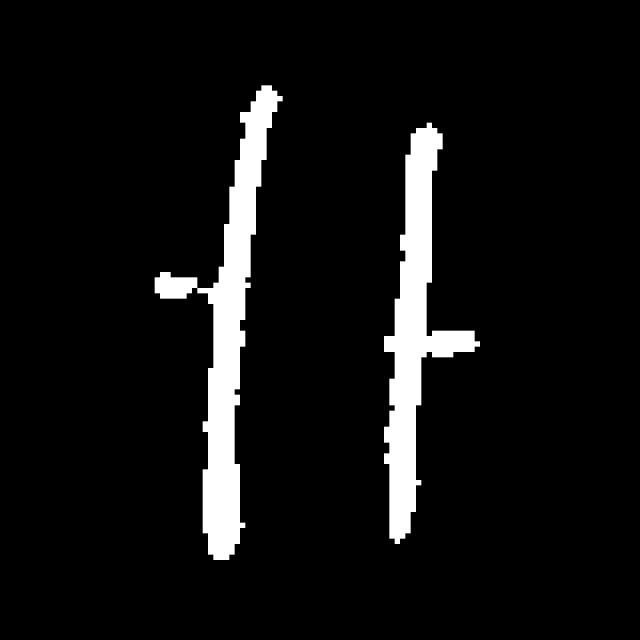capacitor: (199, 73, 443, 576)
